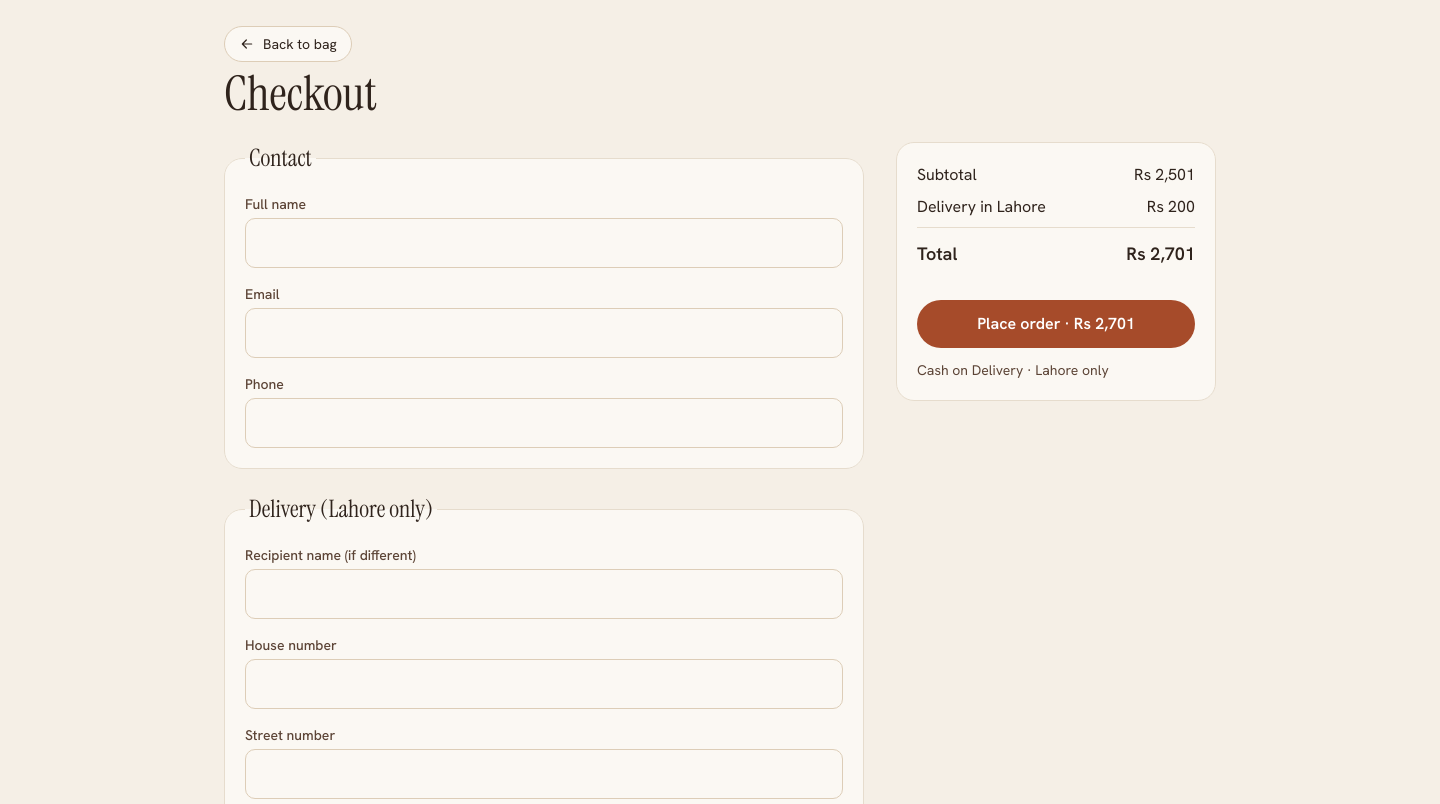
Test: explains NOT_DELIVERABLE errors and keeps the cart
This screenshot has width=1440, height=804.
Type "Ayesha Khan" into the field labelled "Full name" at point(544, 243), box [245, 218, 843, 268]
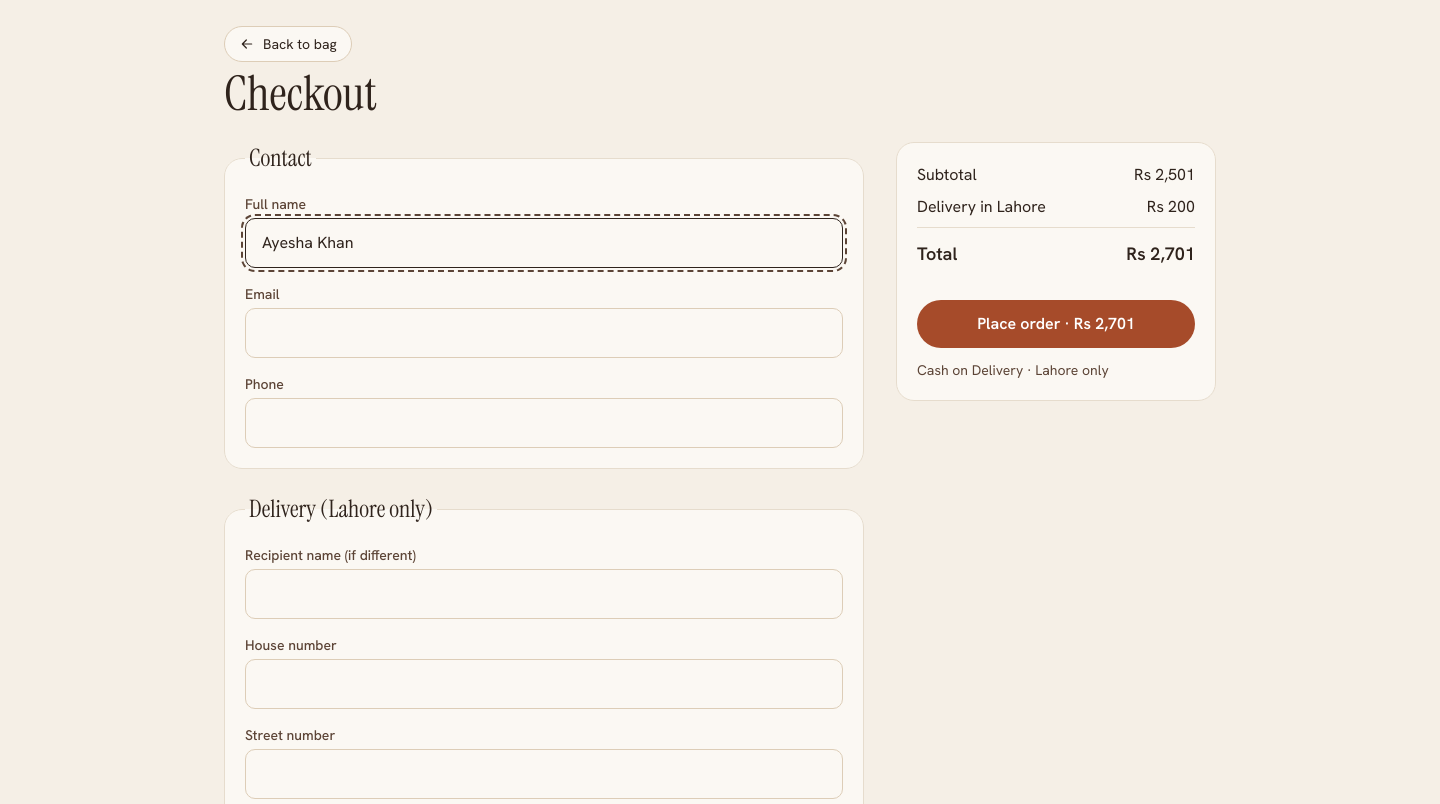
Type "a@example.com" into the field labelled "Email" at point(544, 333), box [245, 308, 843, 358]
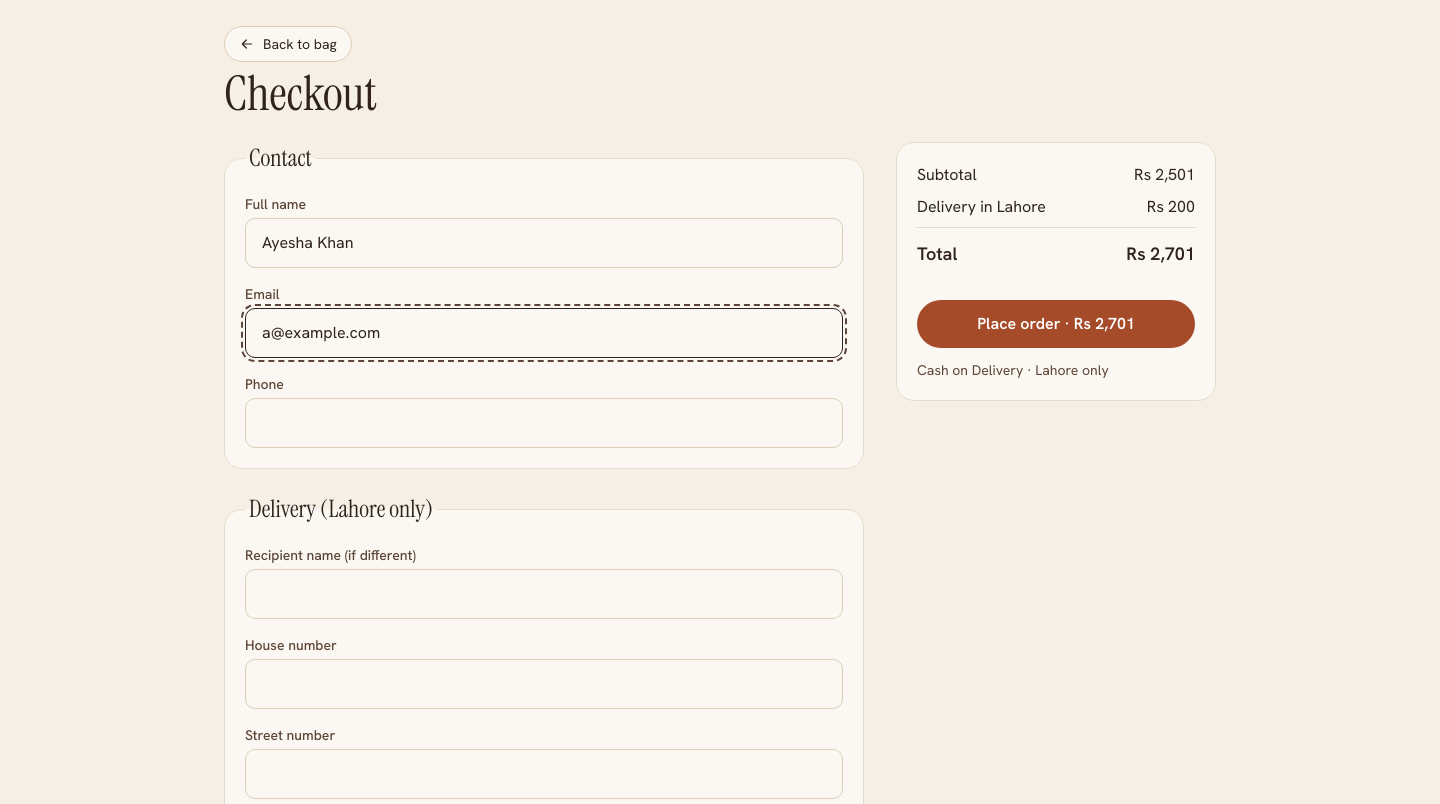
Type "12-B" into the field labelled "House number" at point(544, 684), box [245, 659, 843, 709]
(page scrolled)
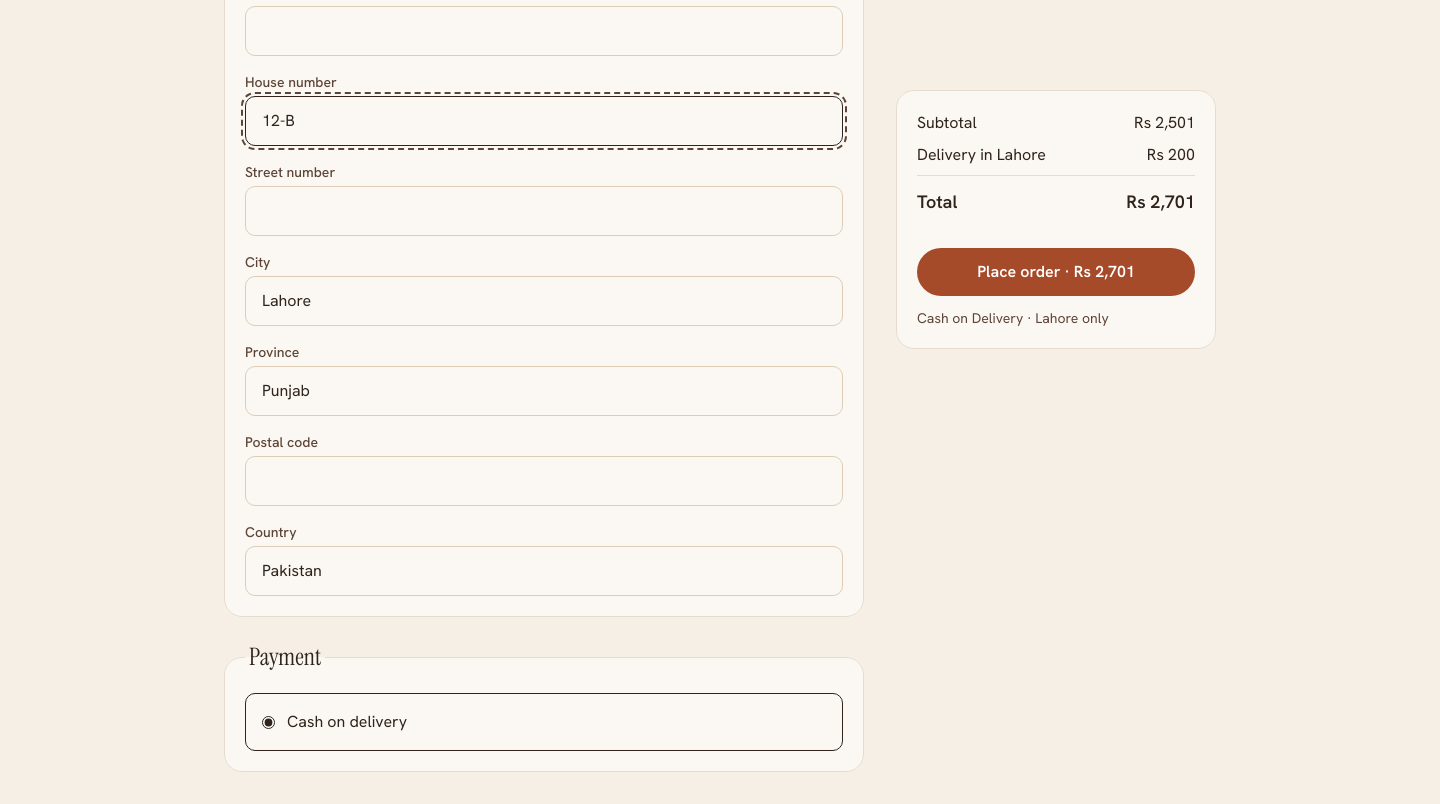
Type "54000" into the field labelled "Postal code" at point(544, 481), box [245, 456, 843, 506]
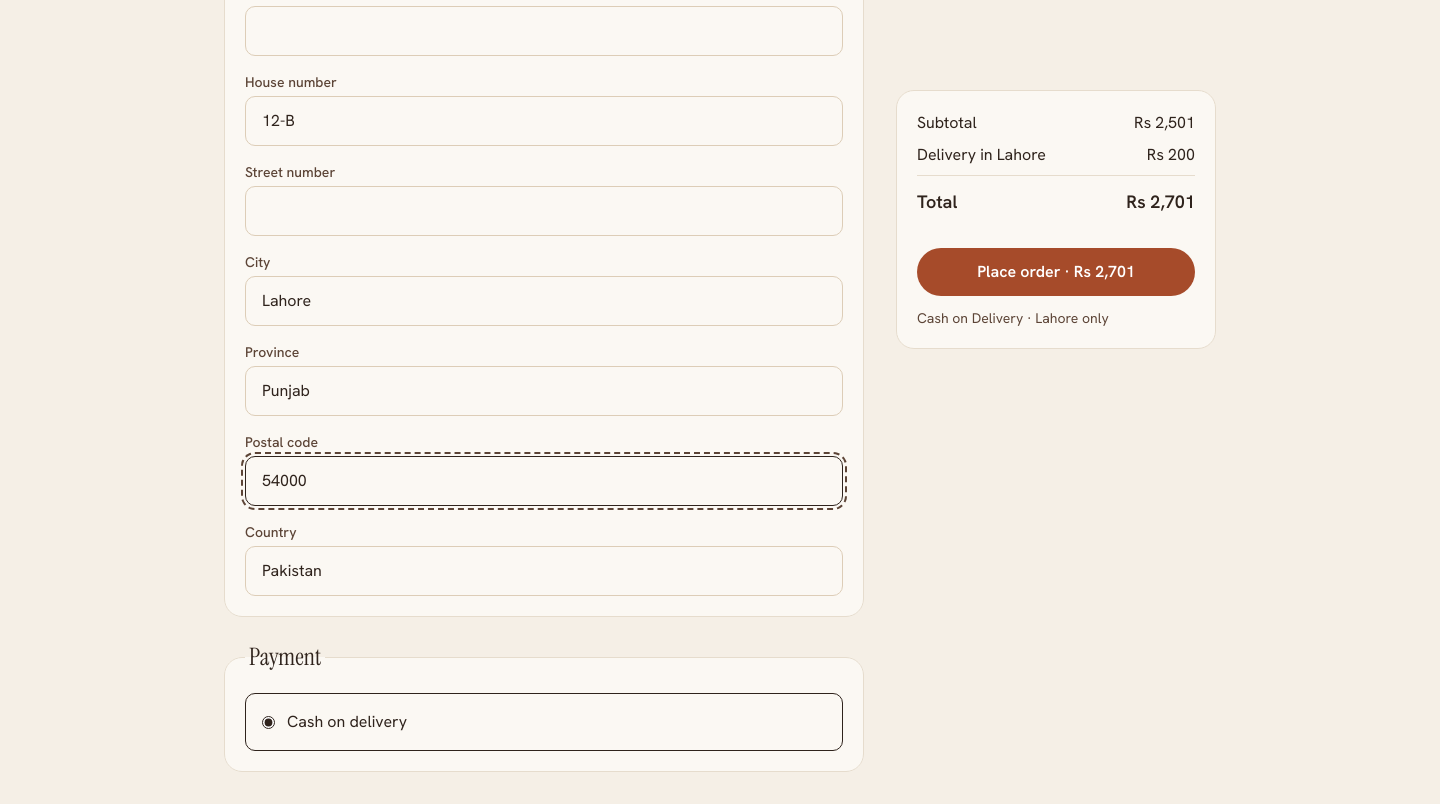
Click the button "Place order · Rs 2,701" at point(1056, 272), box [917, 248, 1195, 296]
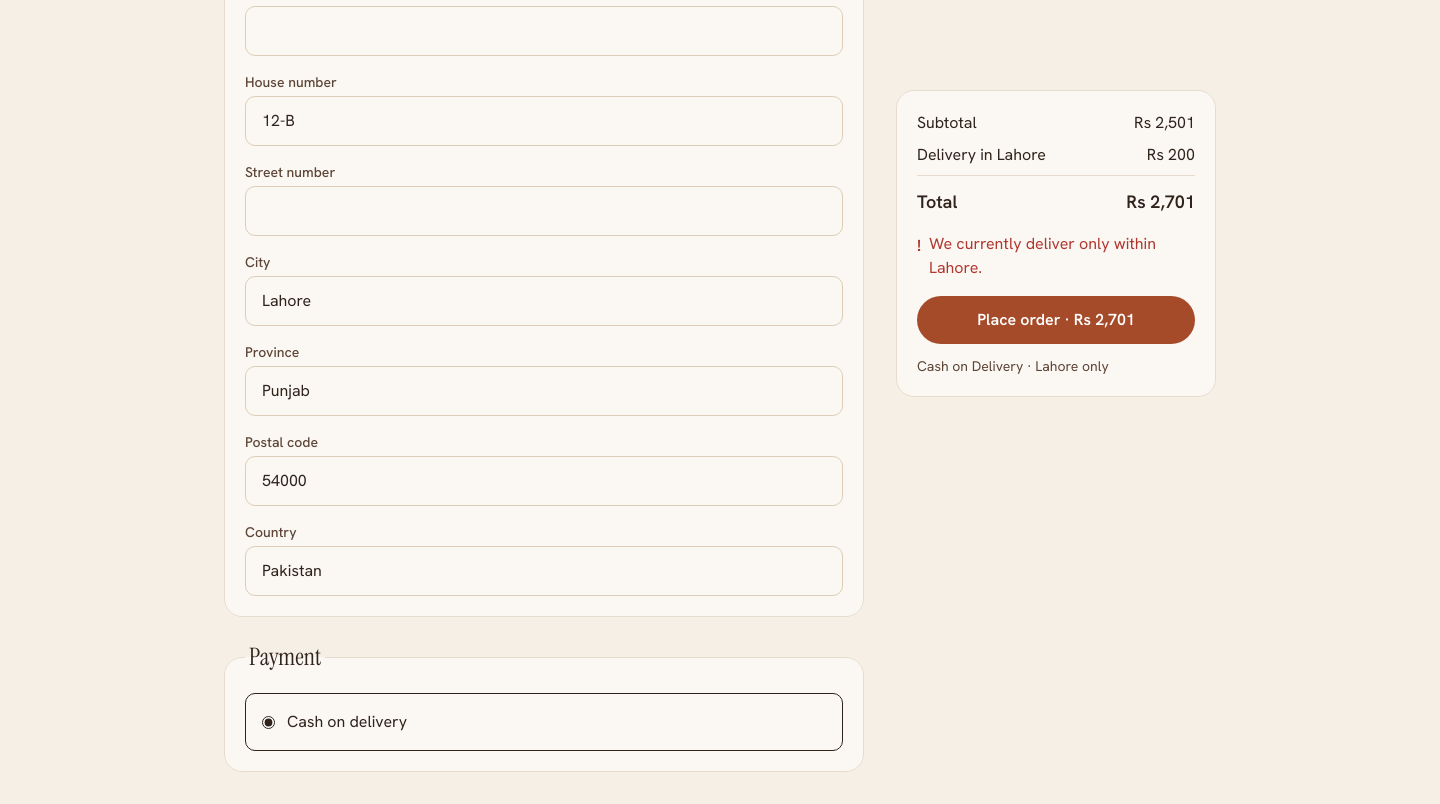
Check: the message shows "only within Lahore", box [929, 233, 1156, 278]
